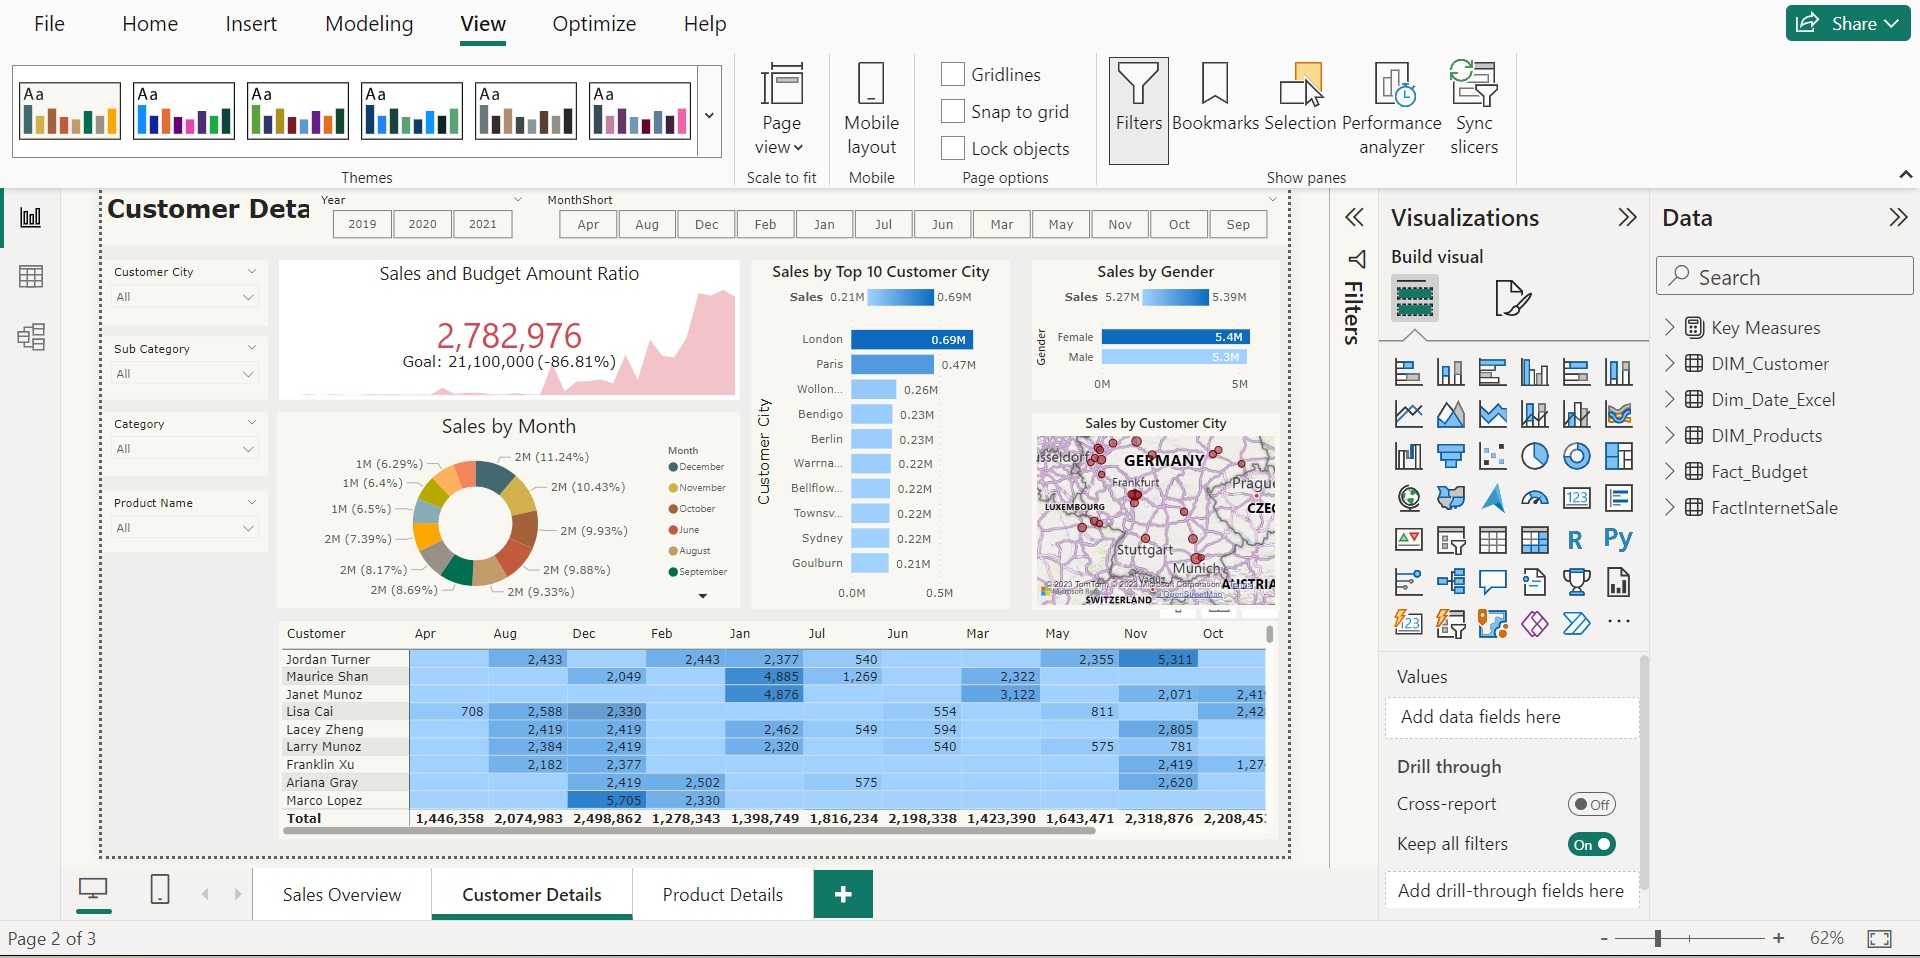

Layout of this report page (visuals, bound fields, positions):
{"tool":"powerbi","page":{"name":"Customer Details","canvas":[1280,720],"ordinal":1},"visuals":[{"type":"textbox","box":[0,0,1280,61.1],"z":0},{"type":"slicer","fields":{"Values":["DIM_Customer.Customer City"]},"box":[0,77.8,179.6,70.6],"z":1000},{"type":"slicer","fields":{"Values":["DIM_Products.Sub Category"]},"box":[0,160.4,179.6,68.3],"z":2000},{"type":"slicer","fields":{"Values":["DIM_Products.Product Category"]},"box":[0,241.9,179.6,69.4],"z":3000},{"type":"slicer","fields":{"Values":["DIM_Products.Product Name"]},"box":[0,326.9,179.6,65.9],"z":4000},{"type":"slicer","fields":{"Values":["Dim_Date_Excel.Year"]},"box":[223.9,0,243.1,61.1],"z":5000},{"type":"slicer","fields":{"Values":["Dim_Date_Excel.MonthShort"]},"box":[467,0,813,61.1],"z":6000},{"type":"kpi","title":"Sales and Budget Amount Ratio","fields":{"Indicator":["Key Measures.Sales"],"Goal":["Key Measures.Budget_Amount"],"TrendLine":["FactInternetSale.SalesAmount"]},"box":[191.6,77.8,496.9,150.9],"z":7000},{"type":"donutChart","fields":{"Y":["Key Measures.Sales"],"Category":["Dim_Date_Excel.Month"]},"box":[189.2,241.9,499.3,211.9],"z":8000},{"type":"barChart","title":"Sales by Top 10 Customer City","fields":{"Y":["Key Measures.Sales"],"Category":["DIM_Customer.Customer City"]},"box":[700.5,77.8,279,376],"z":9000},{"type":"barChart","title":"Sales by Gender","fields":{"Y":["Key Measures.Sales"],"Category":["DIM_Customer.Gender"]},"box":[1002.5,77.3,267,151.1],"z":10000},{"type":"pivotTable","fields":{"Rows":["DIM_Customer.Full Name"],"Values":["Key Measures.Sales"],"Columns":["Dim_Date_Excel.MonthShort"]},"box":[189.5,466.5,1079.9,236.8],"z":11000},{"type":"map","fields":{"Category":["DIM_Customer.Customer City"],"Size":["Key Measures.Sales"]},"box":[1002.5,242.4,267,212],"z":12000}]}

Visuals, with their boxes on the page's 1280x720 design canvas (x1, y1, x2, y2). These are canvas units, not pixel positions in the 1920x958 screenshot, which may show the page scaled, cropped or inside an application window:
textbox: 0/0/1280/61
slicer - DIM_Customer.Customer City: 0/78/180/148
slicer - DIM_Products.Sub Category: 0/160/180/229
slicer - DIM_Products.Product Category: 0/242/180/311
slicer - DIM_Products.Product Name: 0/327/180/393
slicer - Dim_Date_Excel.Year: 224/0/467/61
slicer - Dim_Date_Excel.MonthShort: 467/0/1280/61
"Sales and Budget Amount Ratio" kpi: 192/78/688/229
donutChart - Key Measures.Sales x Dim_Date_Excel.Month: 189/242/688/454
"Sales by Top 10 Customer City" barChart: 700/78/980/454
"Sales by Gender" barChart: 1002/77/1270/228
pivotTable - DIM_Customer.Full Name x Key Measures.Sales: 190/466/1269/703
map - DIM_Customer.Customer City x Key Measures.Sales: 1002/242/1270/454
